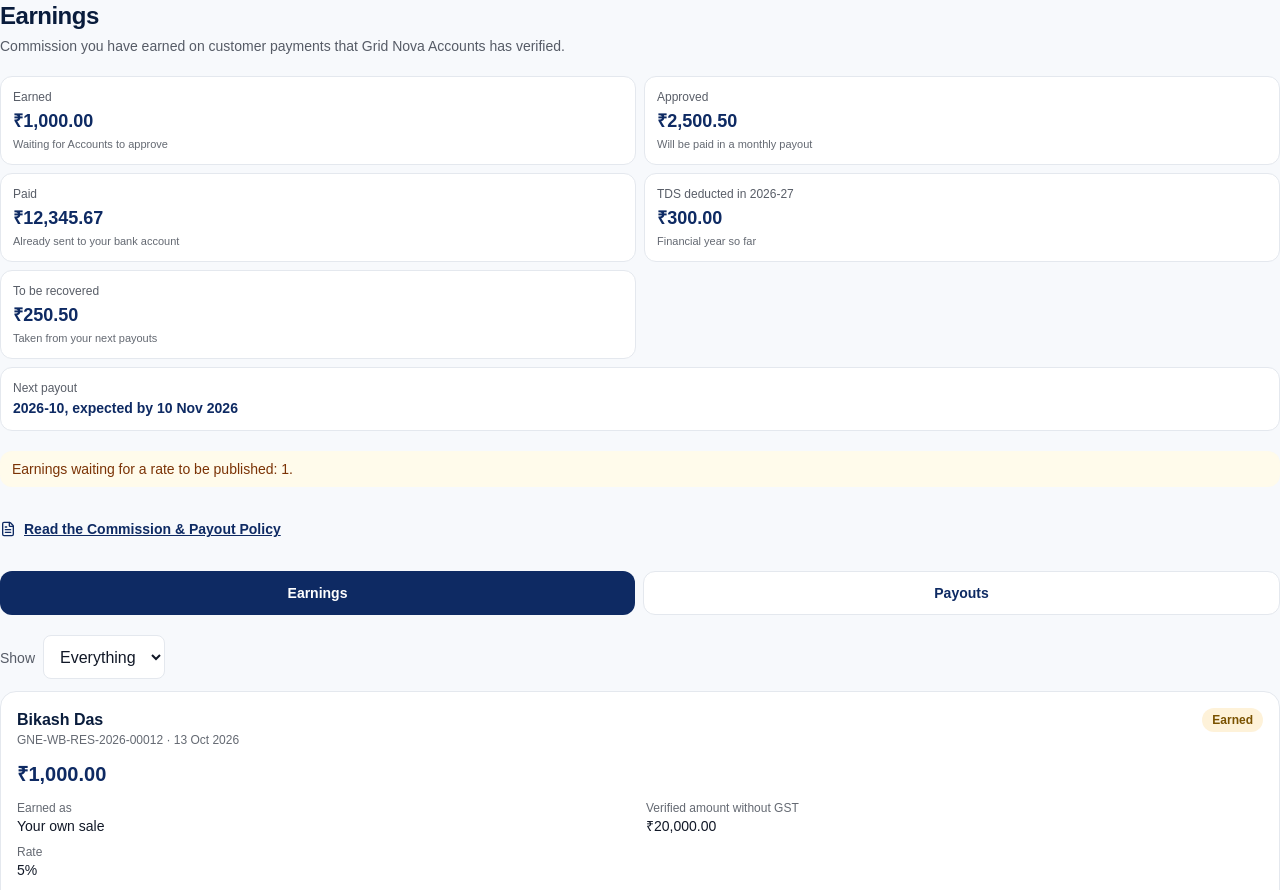
Scenario: Payouts (E2) › lists period, gross, TDS, recoveries, net, paid date, bank last4 and reference
Step 1. Click the button "Payouts" → (962, 593), box [643,571,1279,615]
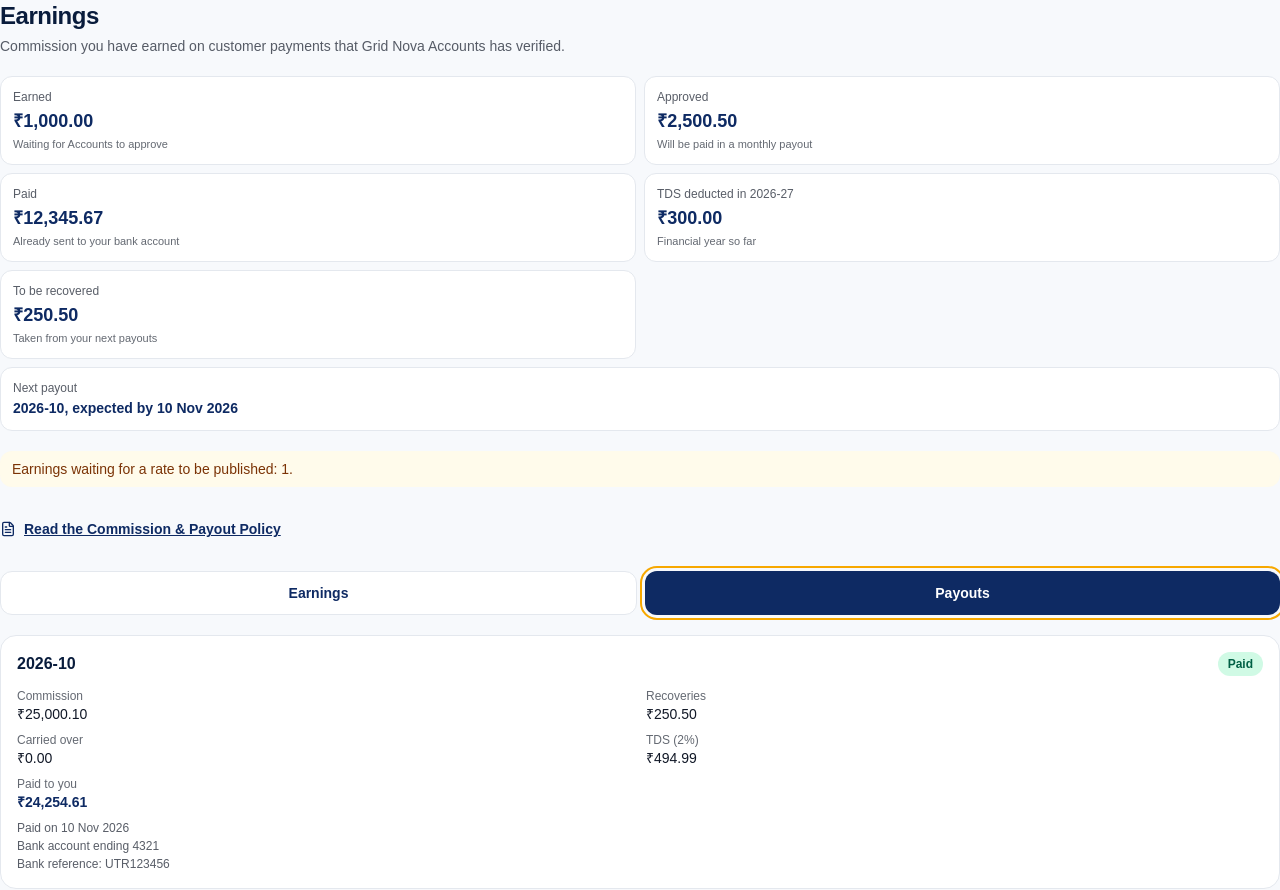
expect the list item with test id "payout-item" shows "2026-10": met, box [17,655,76,672]
expect the list item with test id "payout-item" shows "₹25,000.10": met, box [17,706,87,722]
expect the list item with test id "payout-item" shows "₹250.50": met, box [646,706,697,722]
